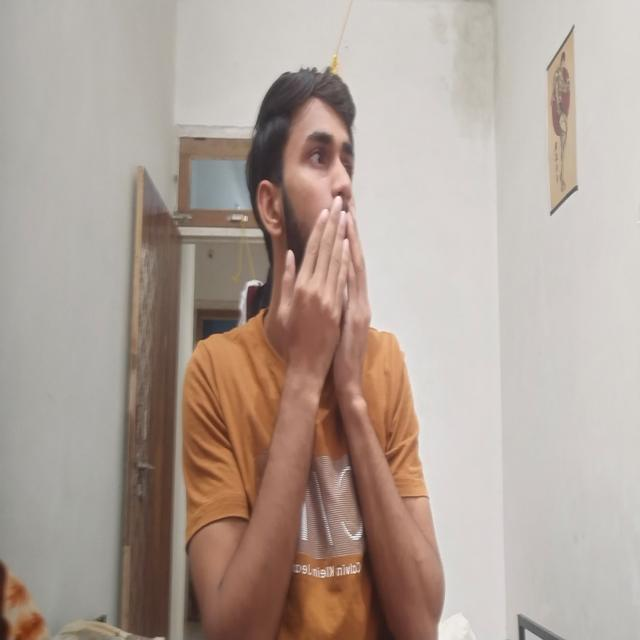Thanks: (271, 189, 406, 432)
